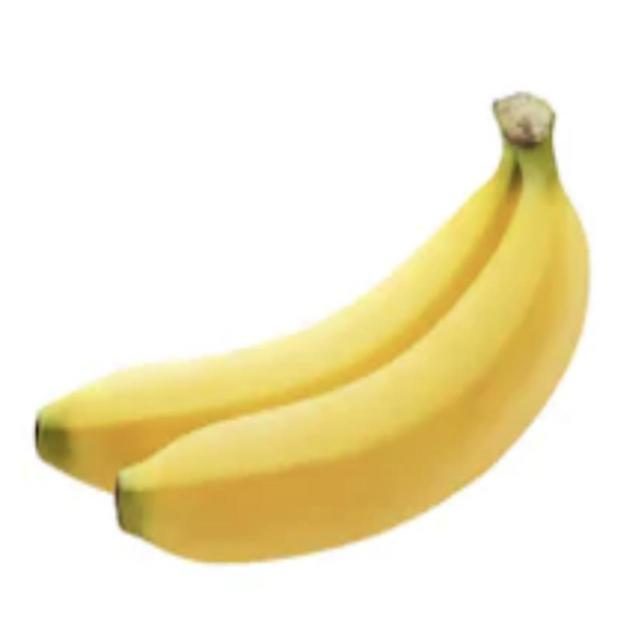banana: (92, 59, 601, 586)
